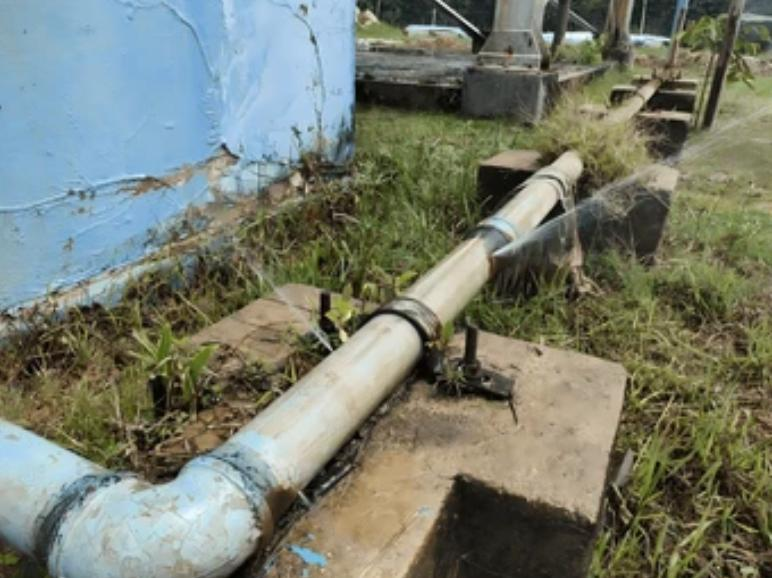pipe burst: (488, 96, 772, 261), (234, 243, 337, 353)
